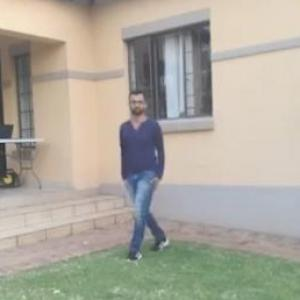follow: (123, 93, 177, 254)
